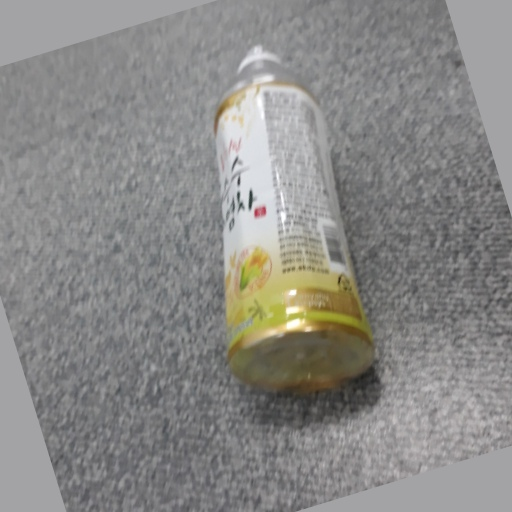Plastic_0: (213, 42, 376, 395)
